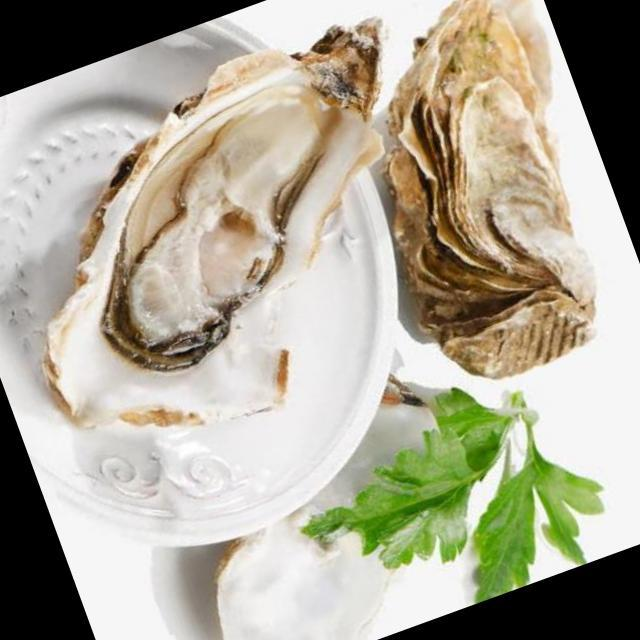Oyster- Indeterminate: (315, 0, 640, 399)
